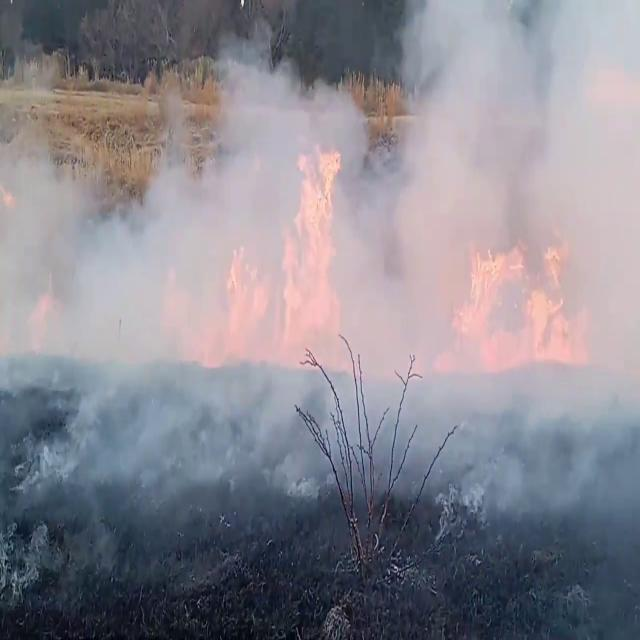Smoke: (1, 6, 638, 494)
